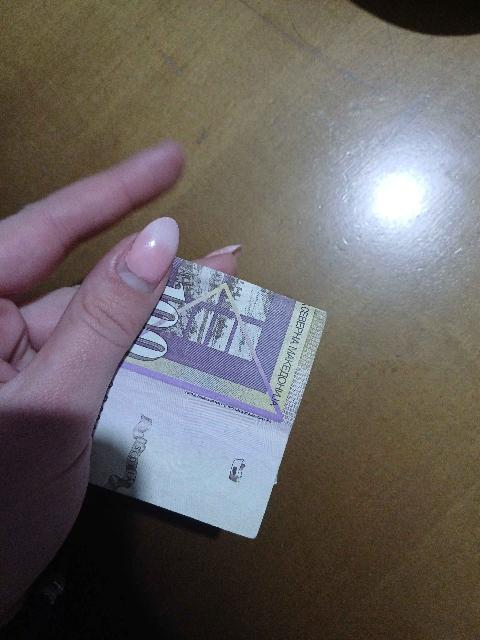100_note: (91, 259, 325, 537)
